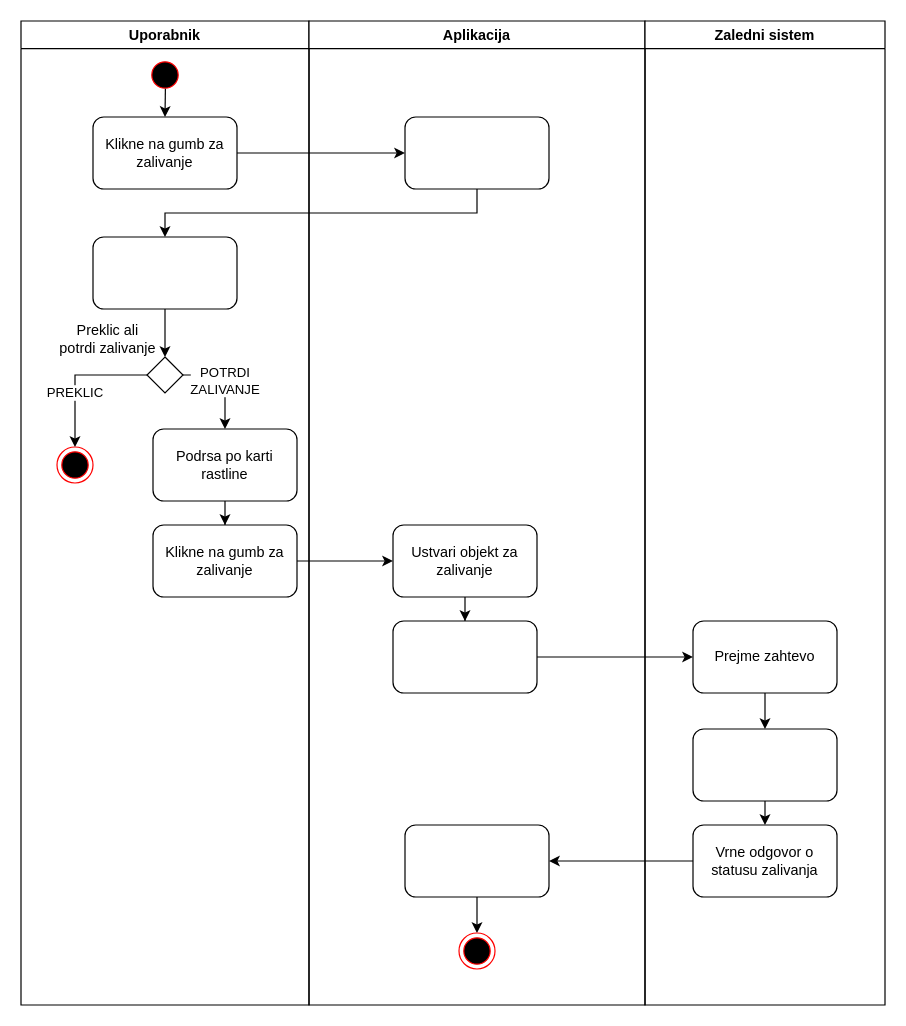
Image size: 906x1026. Some labels were removed from this diagram. Each missing label, with the centre of its shape:
Odstrani rastlino iz seznama rastlin za zalivanje: the point at 476,860
Pošlje zahtevo: the point at 464,656
Pregleda rastline, ki jih je potrebno ta dan zaliti: the point at 164,272
Preusmeri na zaslon z rastlinami za zalivanje: the point at 476,152
Shrani podatke o zalivanju: the point at 764,764
